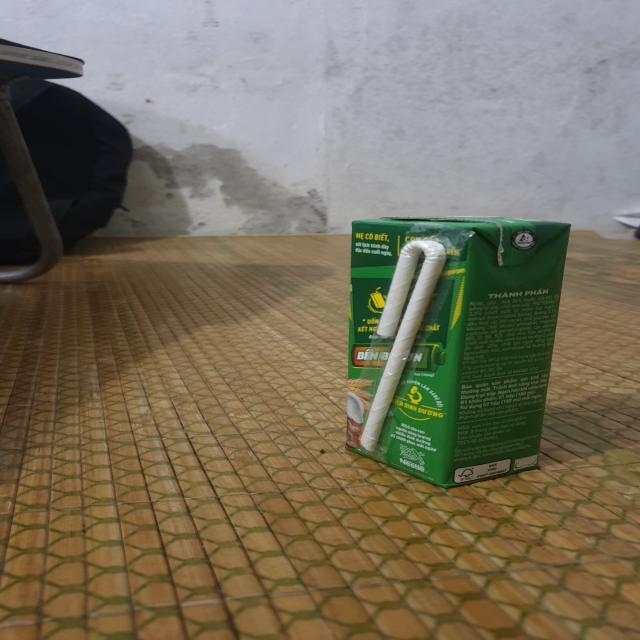Milo: (348, 217, 571, 487)
